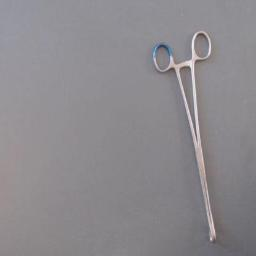Sponge Forceps: (149, 26, 221, 248)
